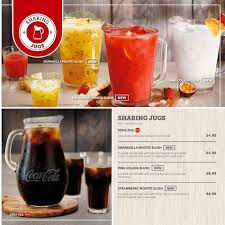coke: (2, 114, 112, 219)
